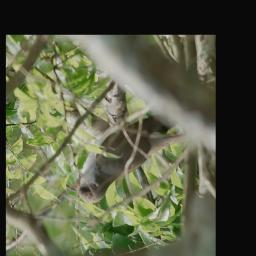Cuckoo: (66, 112, 191, 205)
